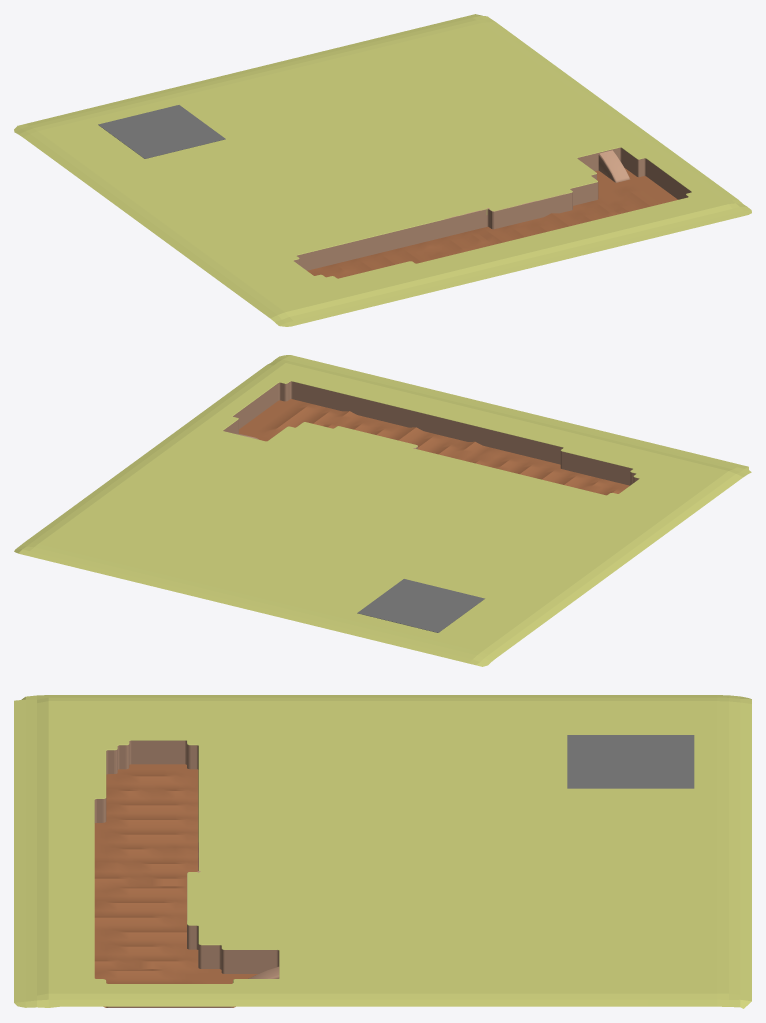
Rendered from cenario 3 A.fbx.
3 renders of one model, top to bottom at view 1: azimuth 30°, elevation 25°; view 2: azimuth 150°, elevation 25°; view 3: azimuth 270°, elevation 25°, orthographic. The views are drawn at different scales.
Parts seen in each view (by area): view 1: Plane.003; view 2: Plane.003; view 3: Plane.003.
Boxes of the visible parts, x1,y1,x2,y2 form: Plane.003: (14,14,751,326); Plane.003: (14,355,751,666); Plane.003: (14,695,751,1008).
Bounding box in the file's own units: 110 × 4.15 × 110.
